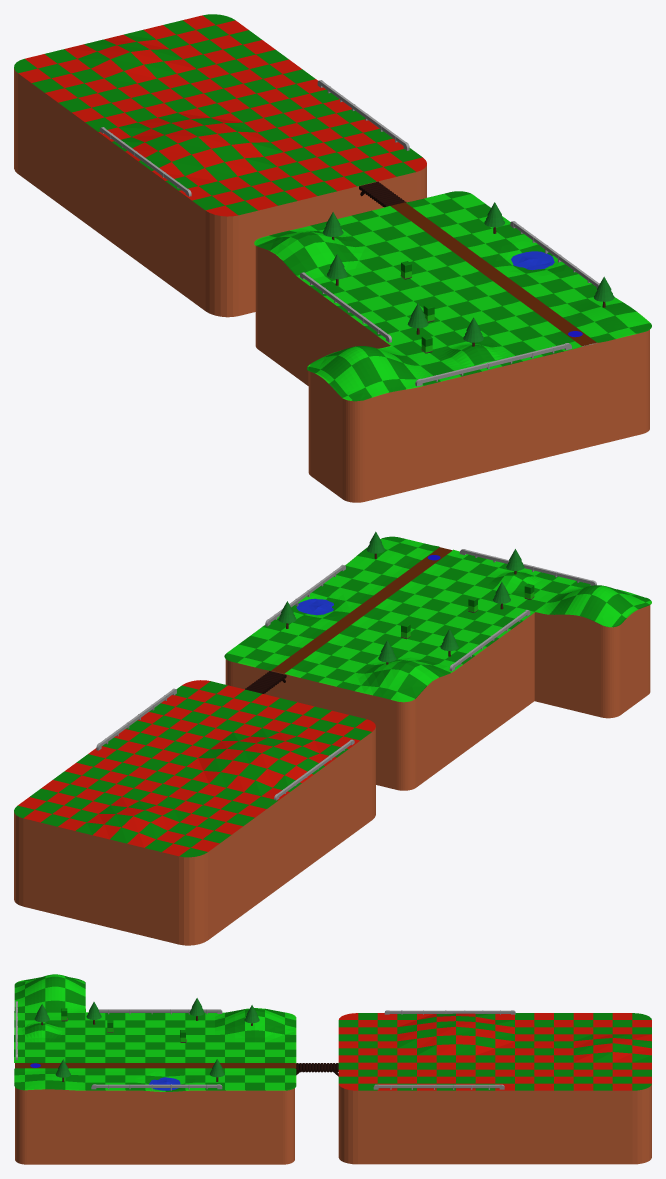
The model's file is StageSelect.obj.
3 views of the same model, one above another, from view 1: azimuth 30°, elevation 25°; view 2: azimuth 150°, elevation 25°; view 3: azimuth 270°, elevation 25° (orthographic). The views are drawn at different scales.
Visible parts, largest first — view 1: 立方体, 立方体.037, 立方体.010; view 2: 立方体.037, 立方体, 立方体.010; view 3: 立方体.037, 立方体, 立方体.011, 立方体.029, 立方体.013, 立方体.019, 円柱.006.
Part boxes in pixels (bbox=[...]): 立方体: bbox=[254, 191, 651, 502]; 立方体.037: bbox=[14, 14, 426, 317]; 立方体.010: bbox=[415, 343, 571, 386]; 立方体.037: bbox=[14, 680, 375, 945]; 立方体: bbox=[224, 536, 651, 790]; 立方体.010: bbox=[459, 549, 596, 585]; 立方体.037: bbox=[338, 1013, 651, 1164]; 立方体: bbox=[14, 974, 296, 1164]; 立方体.011: bbox=[373, 1084, 504, 1089]; 立方体.029: bbox=[91, 1084, 222, 1090]; 立方体.013: bbox=[384, 1010, 515, 1014]; 立方体.019: bbox=[98, 1009, 222, 1014]; 円柱.006: bbox=[296, 1063, 338, 1072].
Bounding box in the file's own units: 48.61 × 21.07 × 119.
